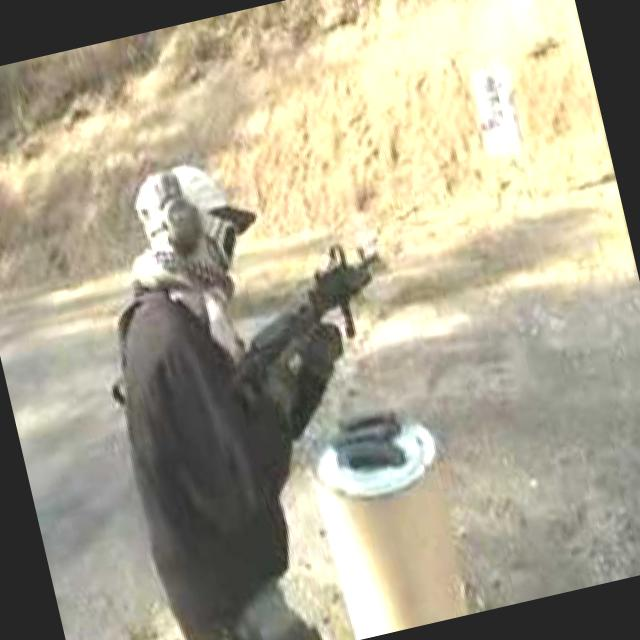long weapon: (208, 229, 404, 400)
